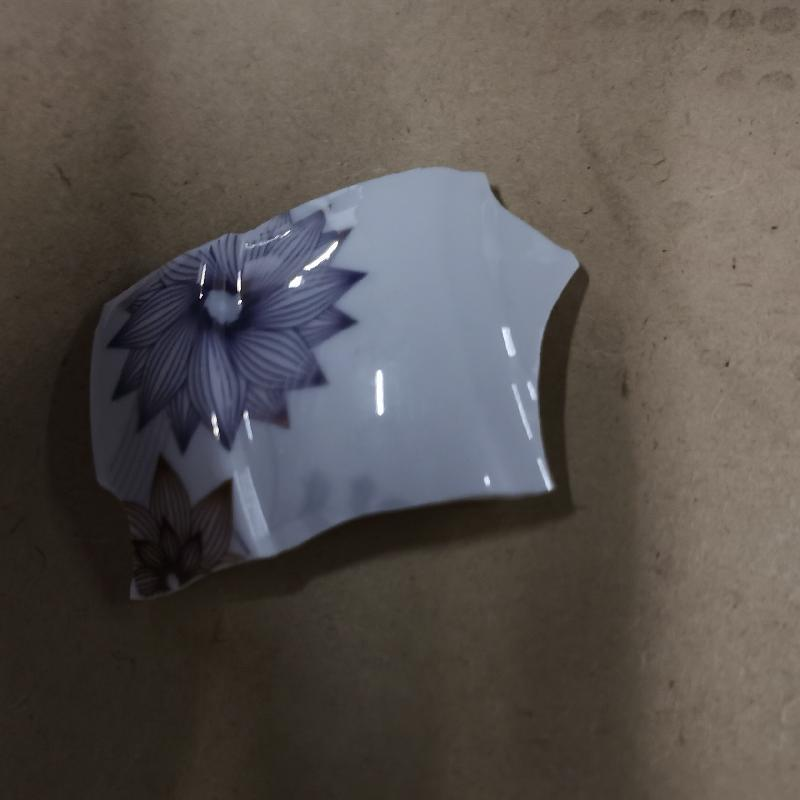ceram: (82, 164, 584, 609)
